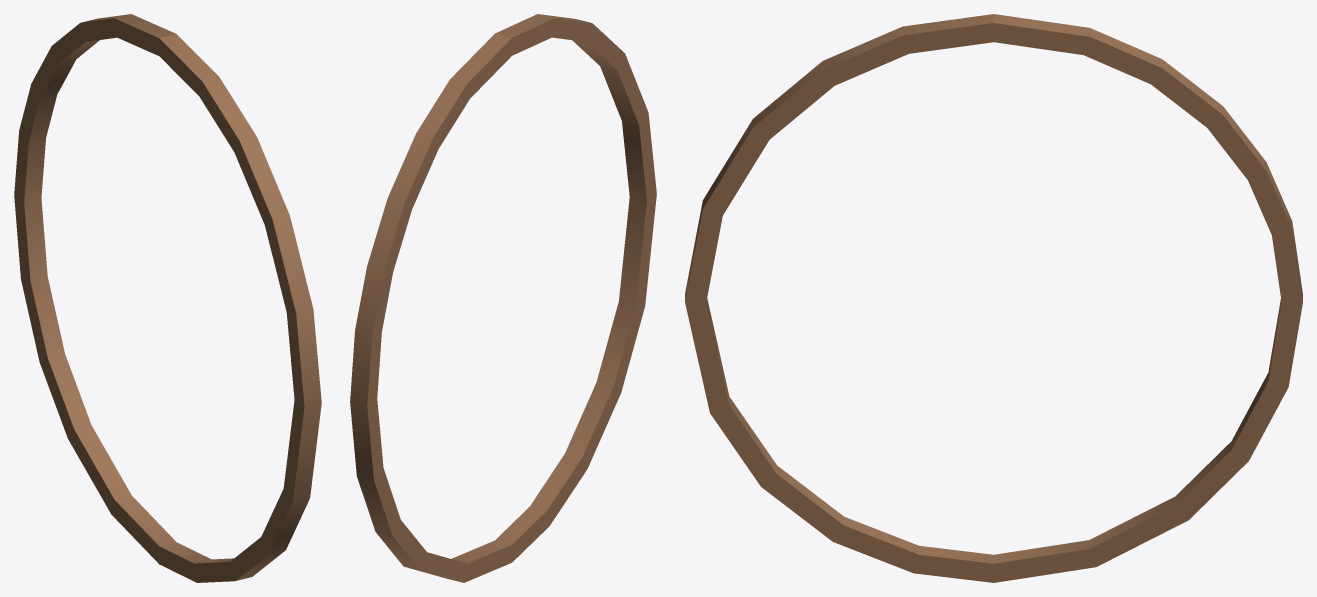
Rendered from S_Metal_Stem_010.fbx.
3 views of the same model, side by side, from view 1: azimuth 30°, elevation 25°; view 2: azimuth 150°, elevation 25°; view 3: azimuth 270°, elevation 25° (orthographic). The views are drawn at different scales.
Parts seen in each view (by area): view 1: S_Metal_Stem_010; view 2: S_Metal_Stem_010; view 3: S_Metal_Stem_010.
Boxes of the visible parts, left/top/right/bottom form: S_Metal_Stem_010: left=14, top=14, right=321, bottom=582; S_Metal_Stem_010: left=350, top=14, right=656, bottom=582; S_Metal_Stem_010: left=685, top=14, right=1302, bottom=582.
Bounding box in the file's own units: 3.39 × 98.45 × 98.45.
